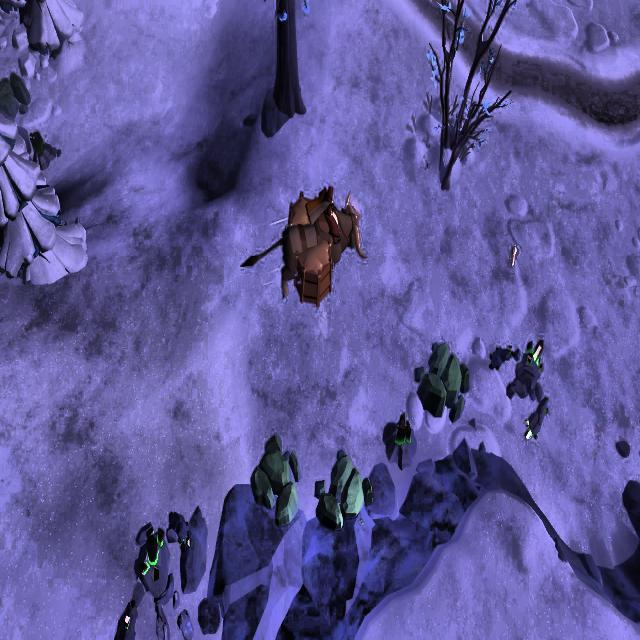ore_t3: (394, 409, 410, 450), (27, 124, 46, 158)
rock_t3: (245, 430, 302, 528), (412, 335, 472, 426), (315, 445, 375, 535), (0, 68, 35, 122)
